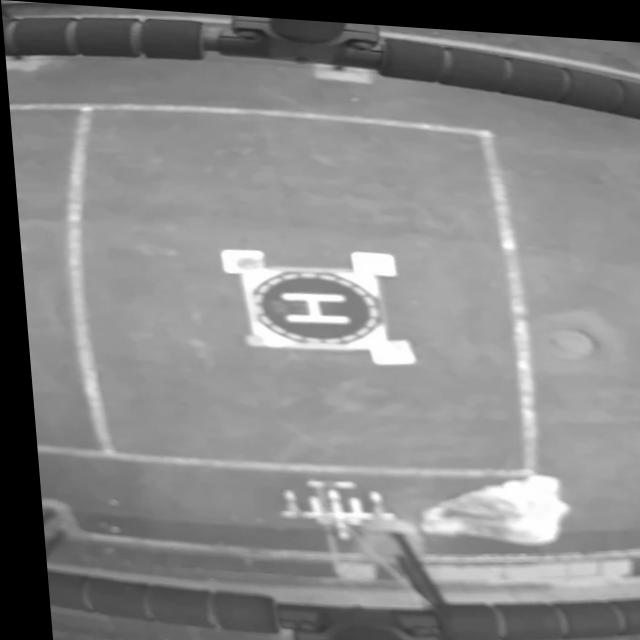Helipad: (275, 288, 345, 321)
